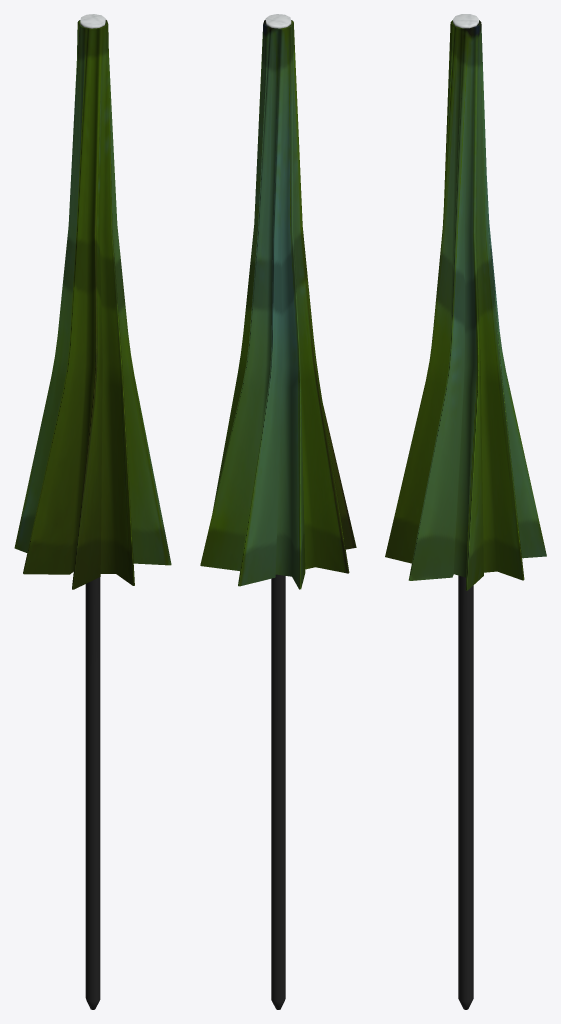
The model's file is ParasolClosed3.fbx.
The picture shows the model from 3 angles, left to right: view 1: azimuth 30°, elevation 25°; view 2: azimuth 150°, elevation 25°; view 3: azimuth 270°, elevation 25°; orthographic projection.
Parts seen in each view (by area): view 1: ParasolClosed3_LOD0; view 2: ParasolClosed3_LOD0; view 3: ParasolClosed3_LOD0.
Part boxes in pixels (x1,y1,x2,y2): ParasolClosed3_LOD0: (14,14,171,1009); ParasolClosed3_LOD0: (200,14,356,1009); ParasolClosed3_LOD0: (385,14,546,1009).
Size of what is drawn, in the model's own units: 35.33 by 239 by 35.33.
